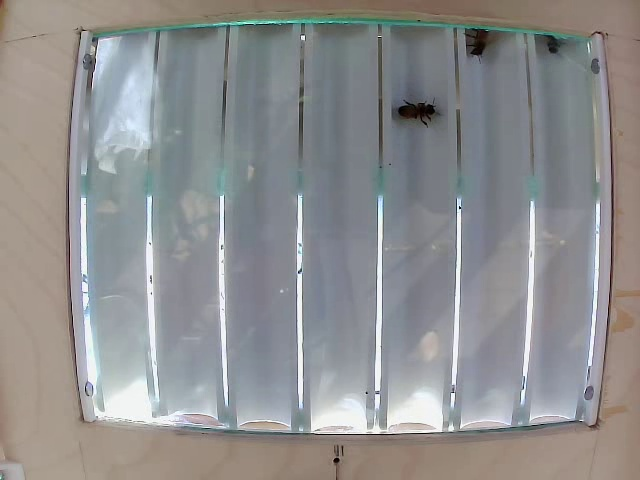bee: (390, 96, 440, 139), (464, 30, 503, 76), (532, 30, 569, 78)
